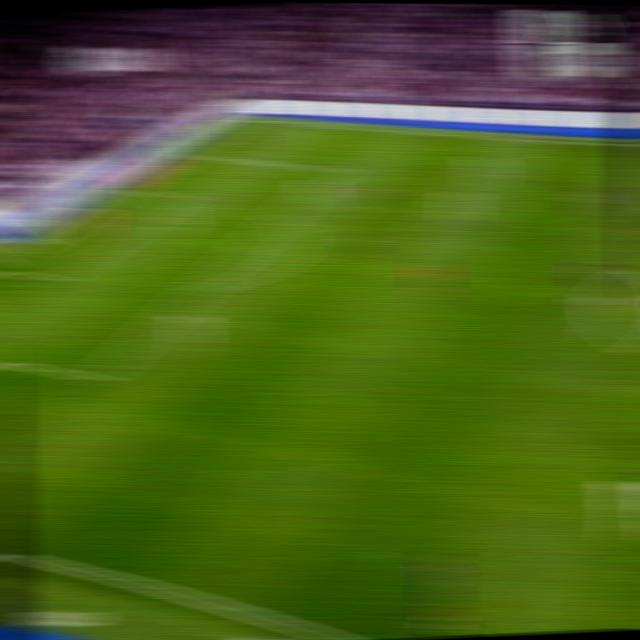bigarea_bottom_inner: (82, 365, 112, 390)
bigarea_top_inner: (323, 162, 349, 177)
bigarea_top_outter: (177, 146, 204, 158)
bottom_arc_area_intersection: (188, 278, 217, 296)
corner: (234, 113, 262, 123)
smallarea_bottom_inner: (42, 269, 70, 288)
smallarea_top_inner: (167, 191, 192, 201)
top_arc_area_intersection: (270, 209, 298, 223)
